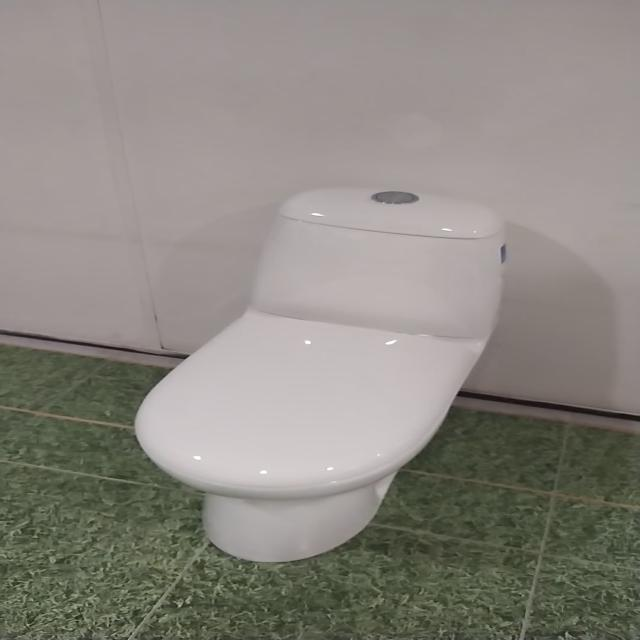toilet: (132, 186, 507, 562)
